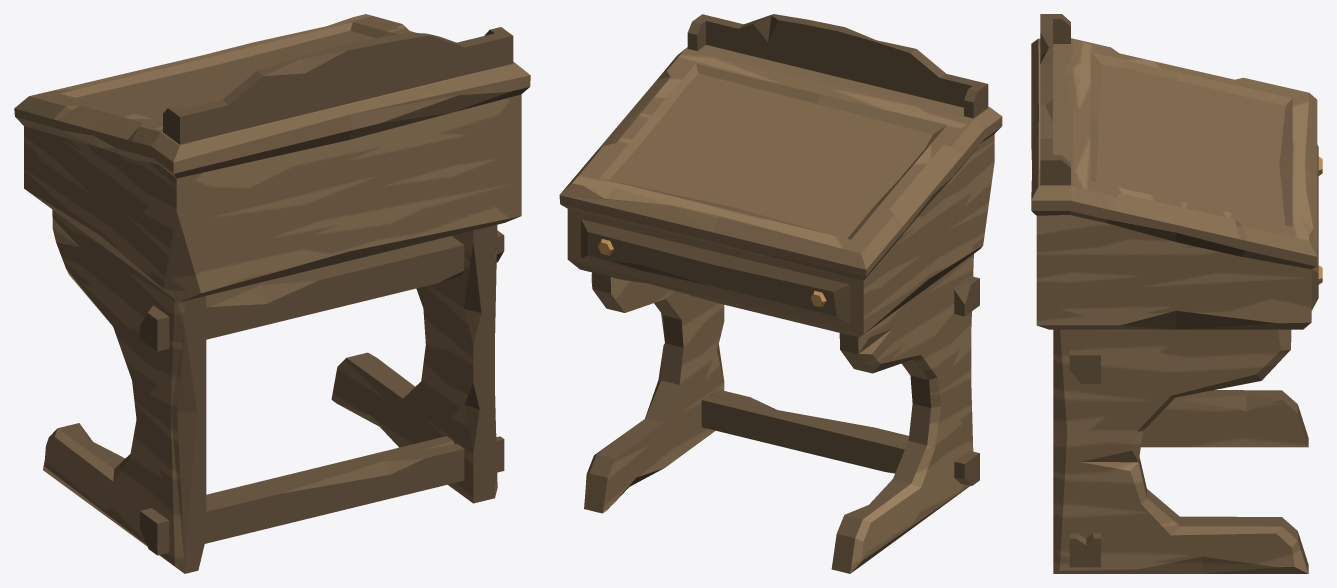
Rendered from SM_Prop_Desk_03.fbx.
3 renders of one model, left to right at view 1: azimuth 30°, elevation 25°; view 2: azimuth 150°, elevation 25°; view 3: azimuth 270°, elevation 25°, orthographic. The views are drawn at different scales.
Visible parts, largest first — view 1: SM_Prop_Desk_03; view 2: SM_Prop_Desk_03; view 3: SM_Prop_Desk_03.
Part boxes in pixels (x1,y1,x2,y2): SM_Prop_Desk_03: (14,14,530,573); SM_Prop_Desk_03: (559,14,1002,573); SM_Prop_Desk_03: (1031,14,1322,573).
Bounding box in the file's own units: 78.85 × 103 × 61.86.
